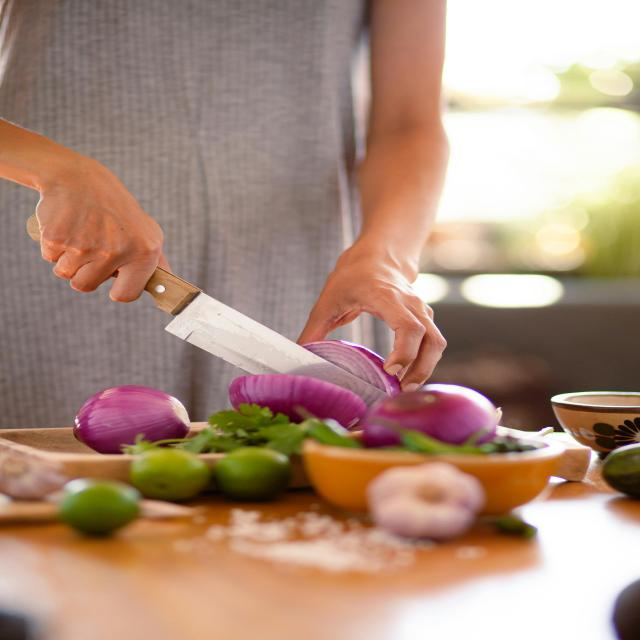knife: (25, 216, 383, 408)
